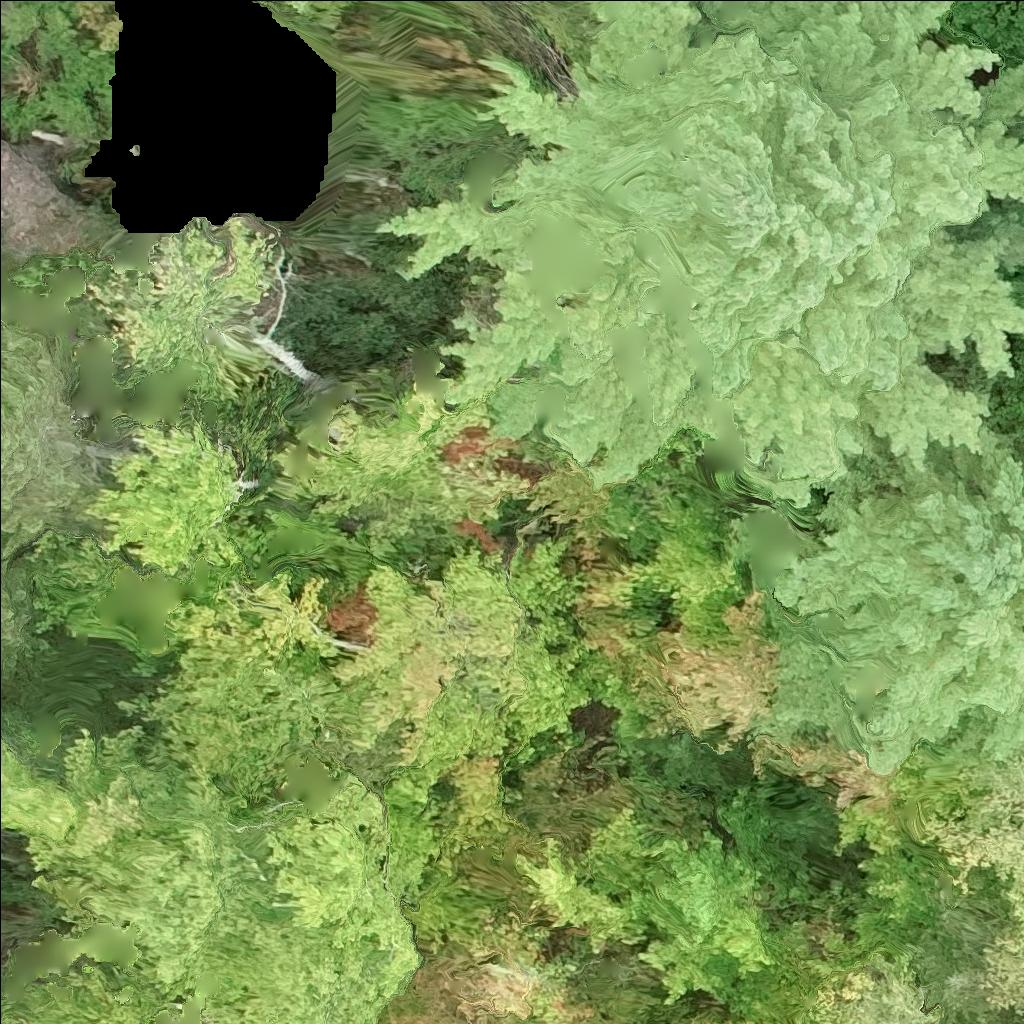crown: (381, 0, 1023, 510), (752, 428, 1023, 765), (917, 750, 1023, 893), (975, 850, 1023, 1012)
